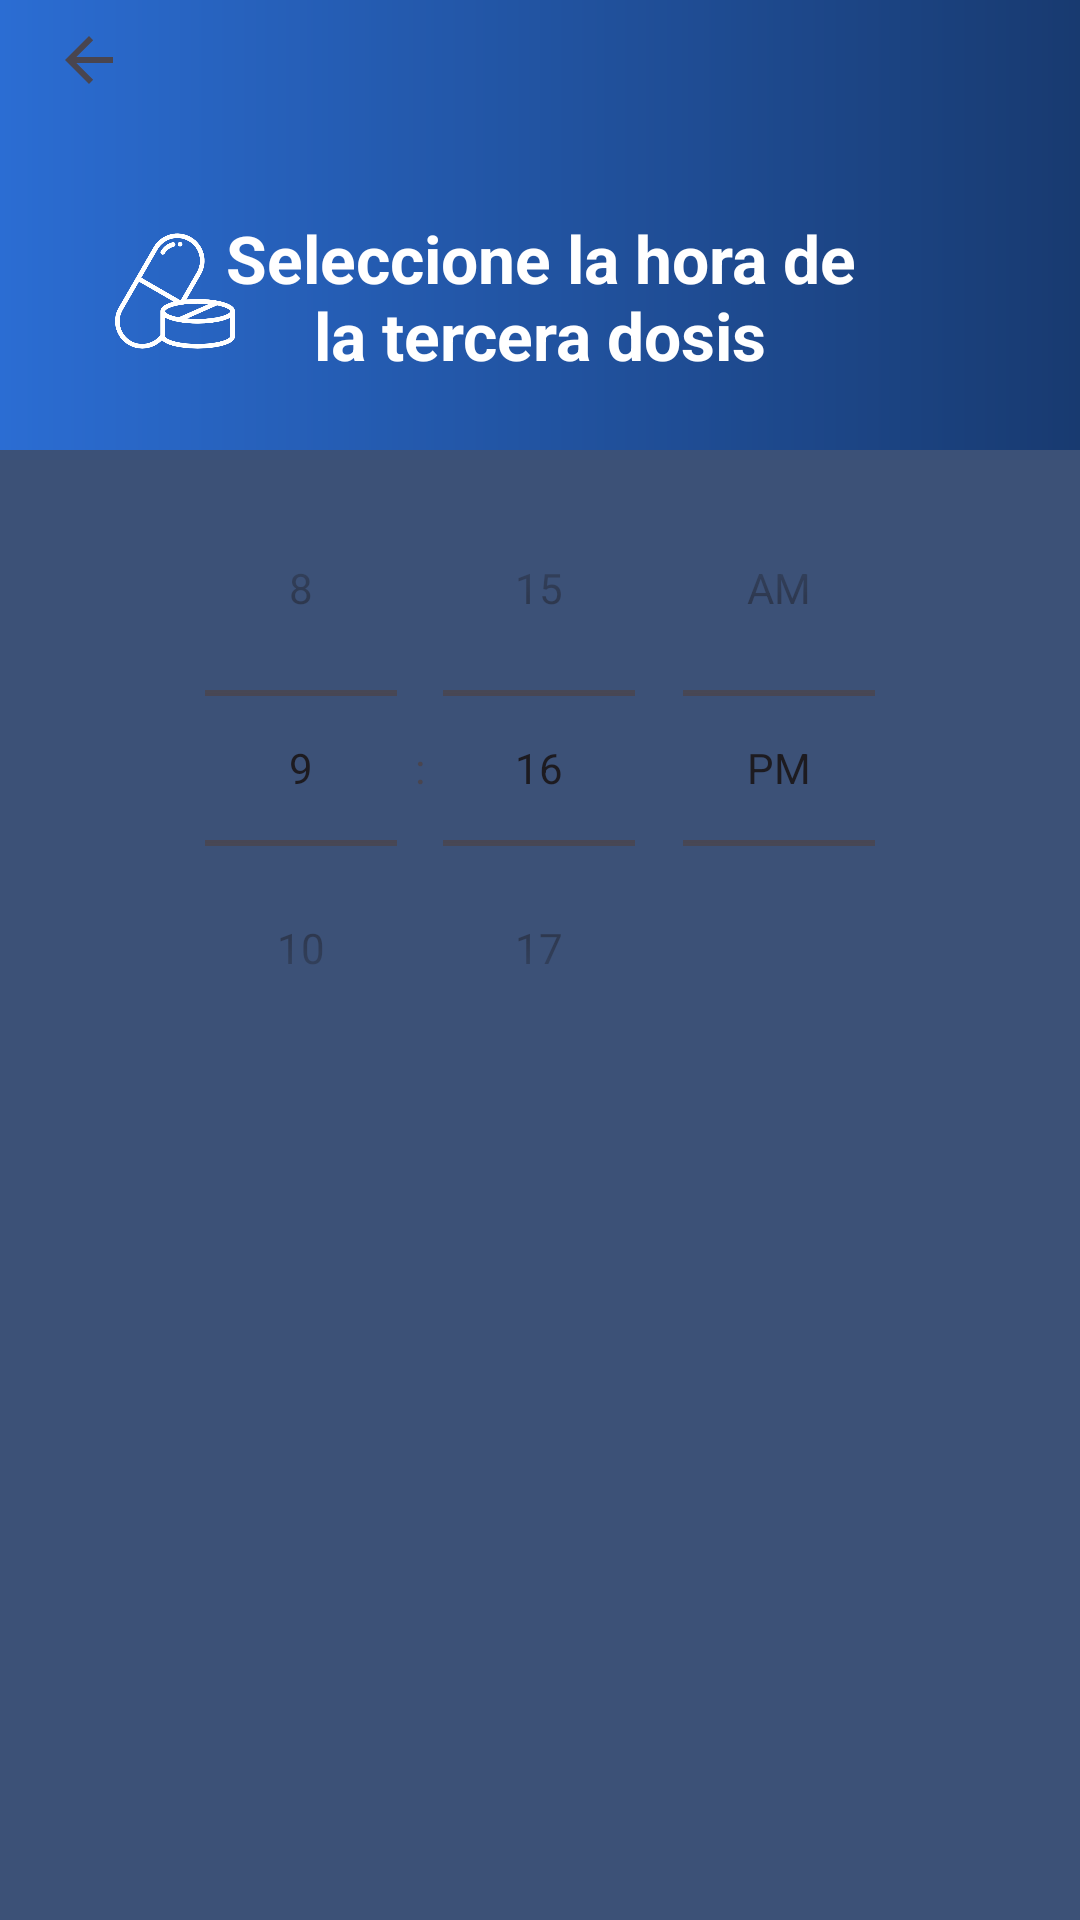

Named icons in this screenshot (1080 × 1920) and their bounding boxes, {"left": x1, "top": y1, "right": x2, "bottom": y2}:
medicamento: {"left": 115, "top": 233, "right": 235, "bottom": 349}
